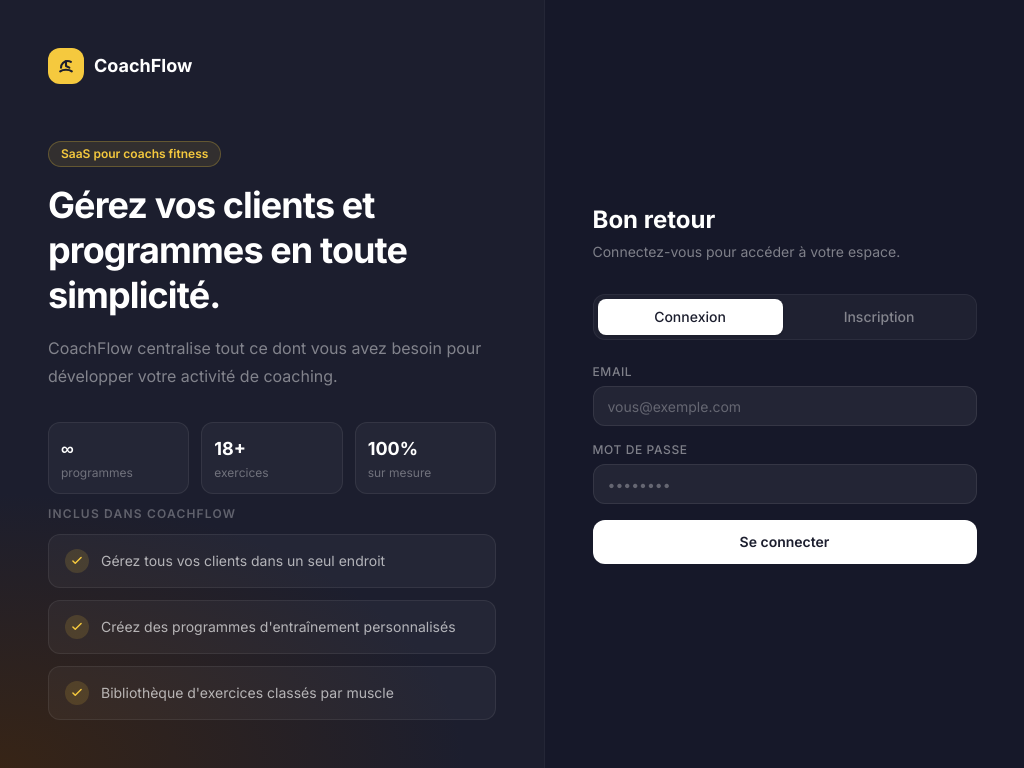
AuthPage › bascule vers le formulaire d'inscription au clic
Click the button "Inscription" at (879, 317), box [786,299,972,335]
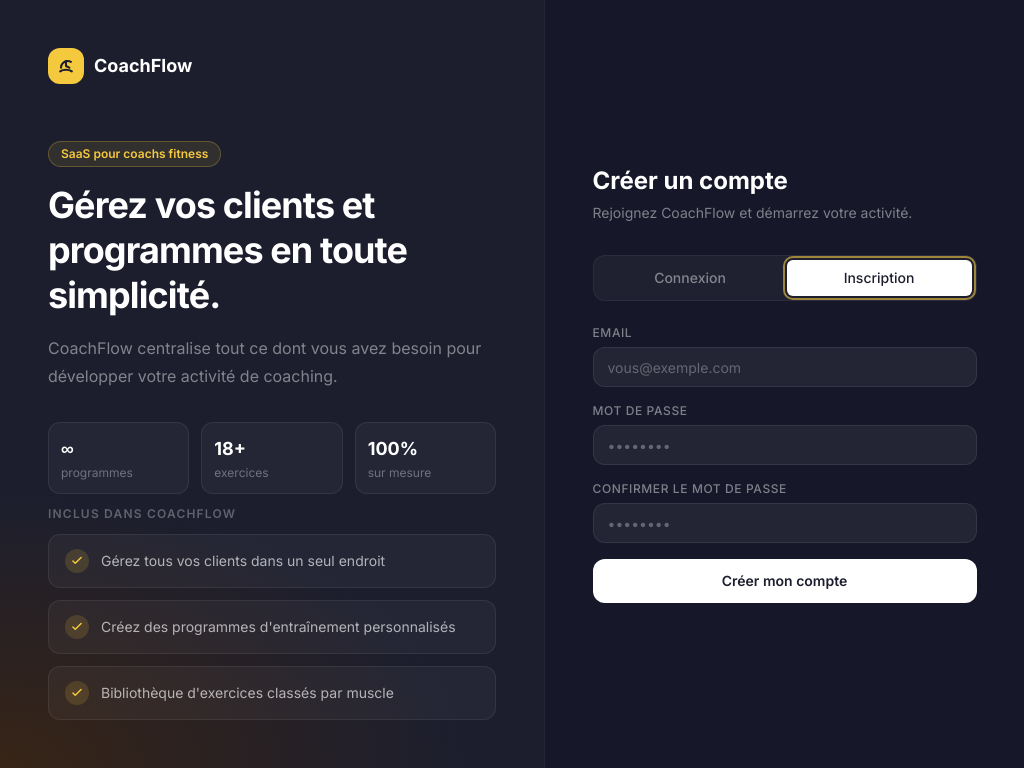
expect the button "Créer mon compte" is shown: met, box [592,559,976,603]
